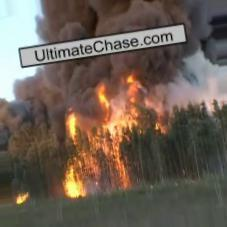fire: (62, 73, 176, 199), (10, 190, 33, 206)
